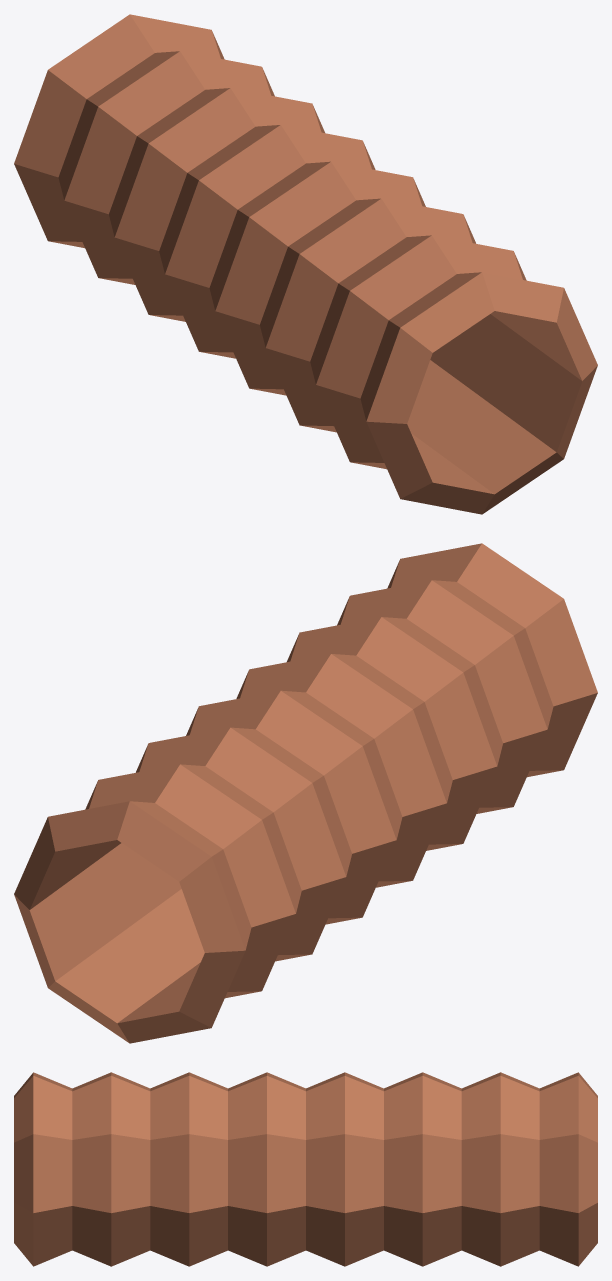
File: construction-pipe-wrinkled.glb
3 renders of one model, top to bottom at view 1: azimuth 30°, elevation 25°; view 2: azimuth 150°, elevation 25°; view 3: azimuth 270°, elevation 25°, orthographic. The views are drawn at different scales.
Parts seen in each view (by area): view 1: pipe-wrinkled; view 2: pipe-wrinkled; view 3: pipe-wrinkled.
Part boxes in pixels (x1=…): pipe-wrinkled: x1=14, y1=14, x2=597, y2=514; pipe-wrinkled: x1=14, y1=543, x2=597, y2=1043; pipe-wrinkled: x1=14, y1=1072, x2=597, y2=1266.
Bounding box in the file's own units: 0.6387 × 0.6387 × 1.8.
